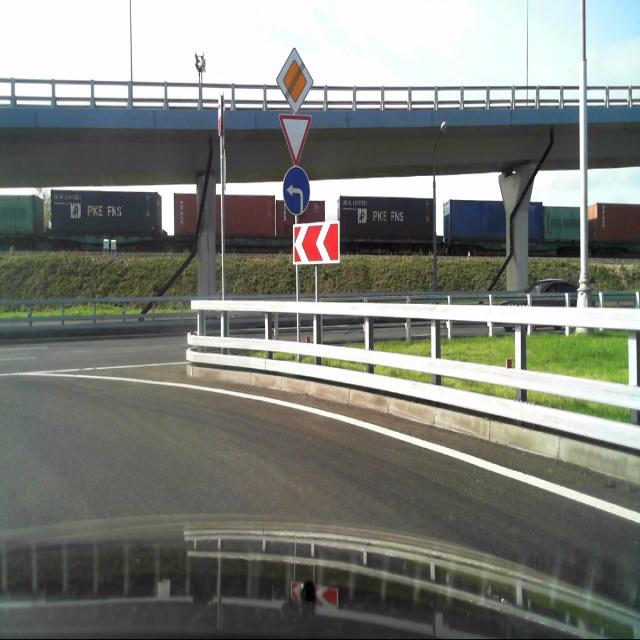road sign: (274, 46, 314, 116), (278, 113, 313, 164)
